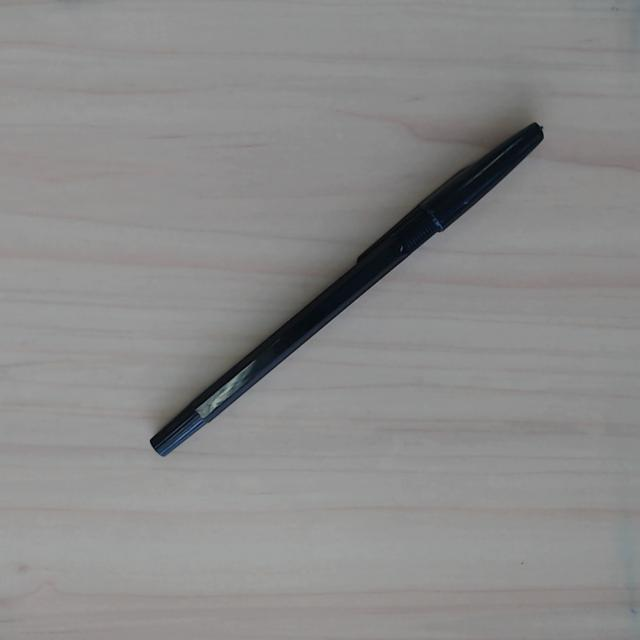Pulpen-Hitam: (145, 111, 551, 467)
